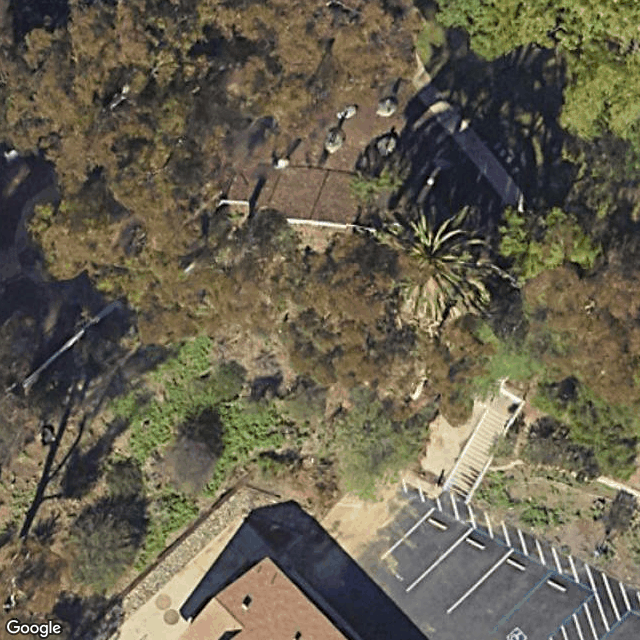palm: (355, 203, 518, 339)
